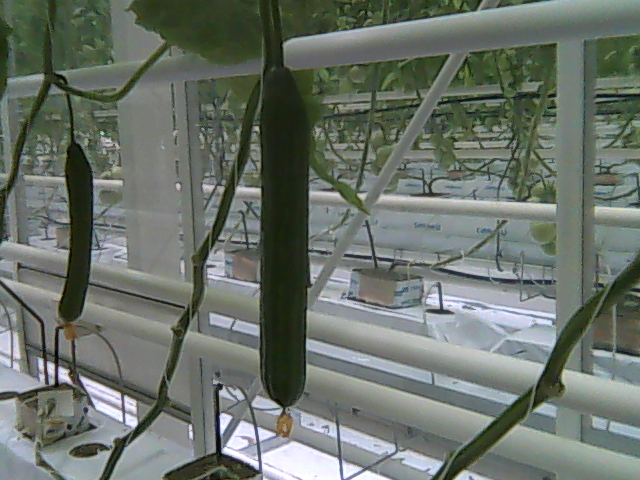concombre: (257, 58, 314, 441), (56, 137, 98, 345)
